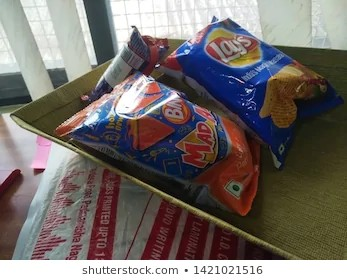lays-small: (168, 3, 339, 163)
